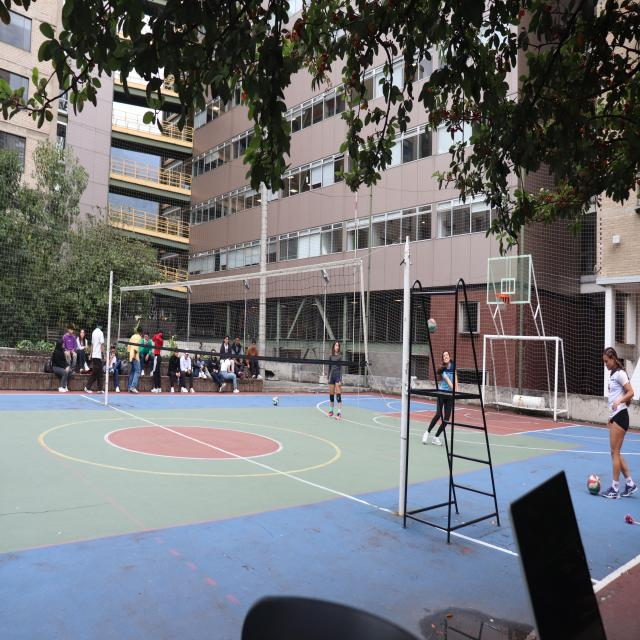volleyball: (588, 474, 601, 493), (427, 318, 437, 334), (272, 396, 278, 405)
